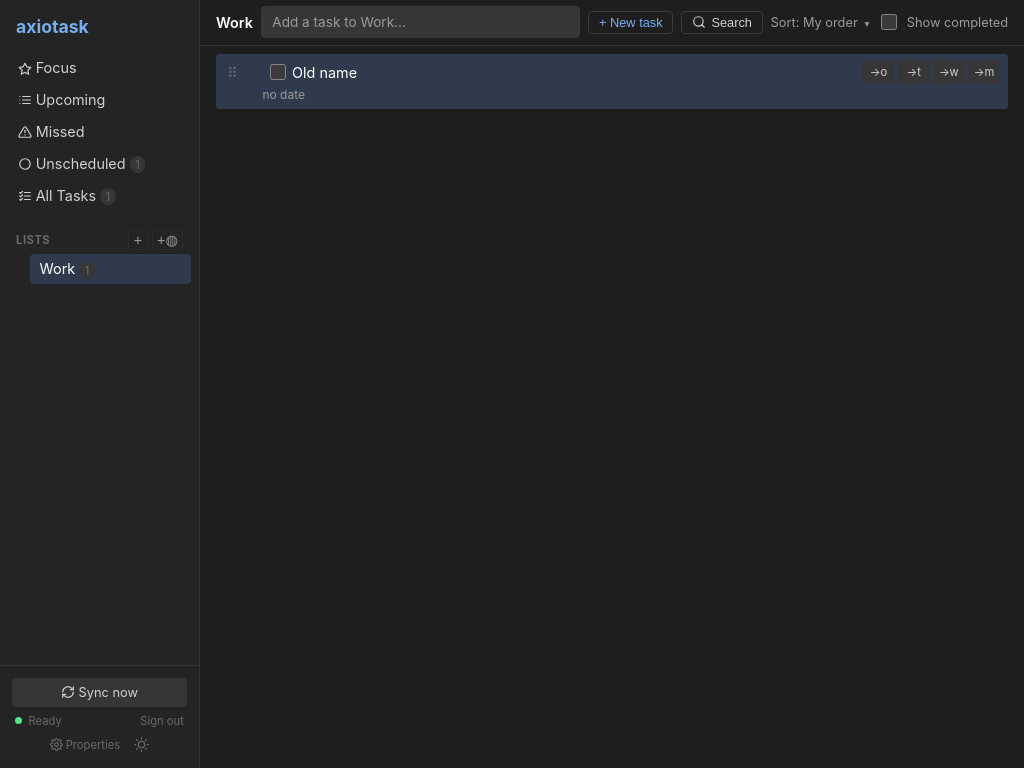
Detail Panel Workflows › The open panel tracks the task it is showing › renaming a task inline updates the title in the open panel
Click the text "Old name": (325, 72) [292,64,357,81]
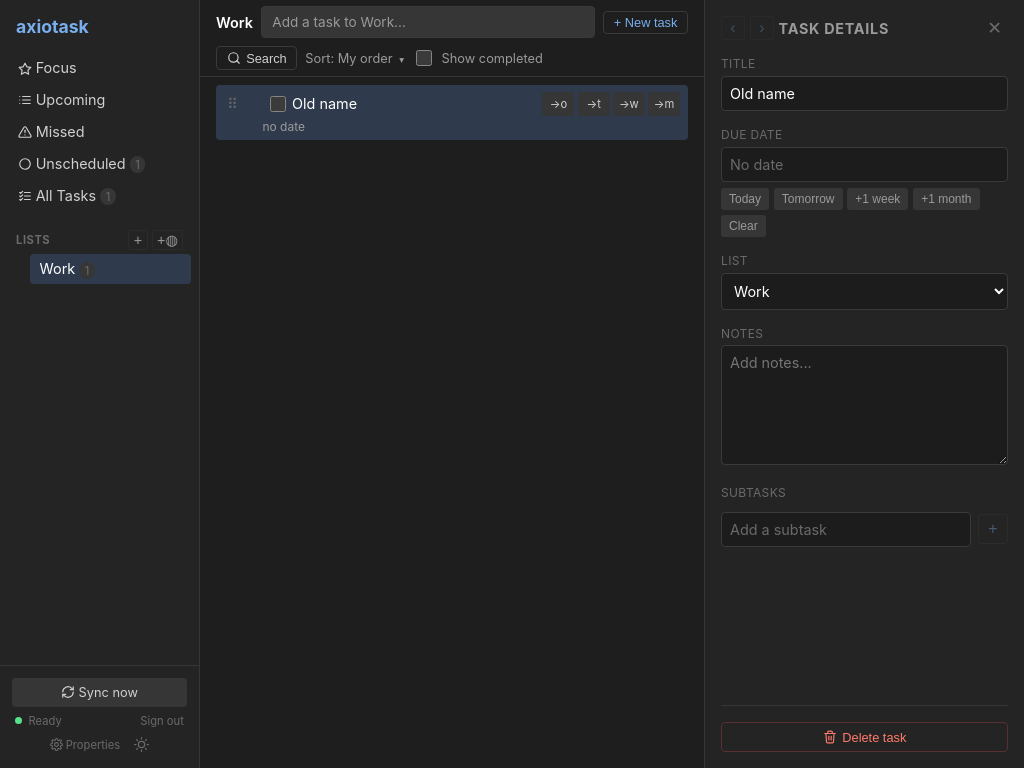
Now the field labelled "Title" holds "Old name", box [721,76,1008,111]
// Rename inline (double-click the title → edit input → Enter).
Double-click the text "Old name": (325, 104) [292,95,357,112]
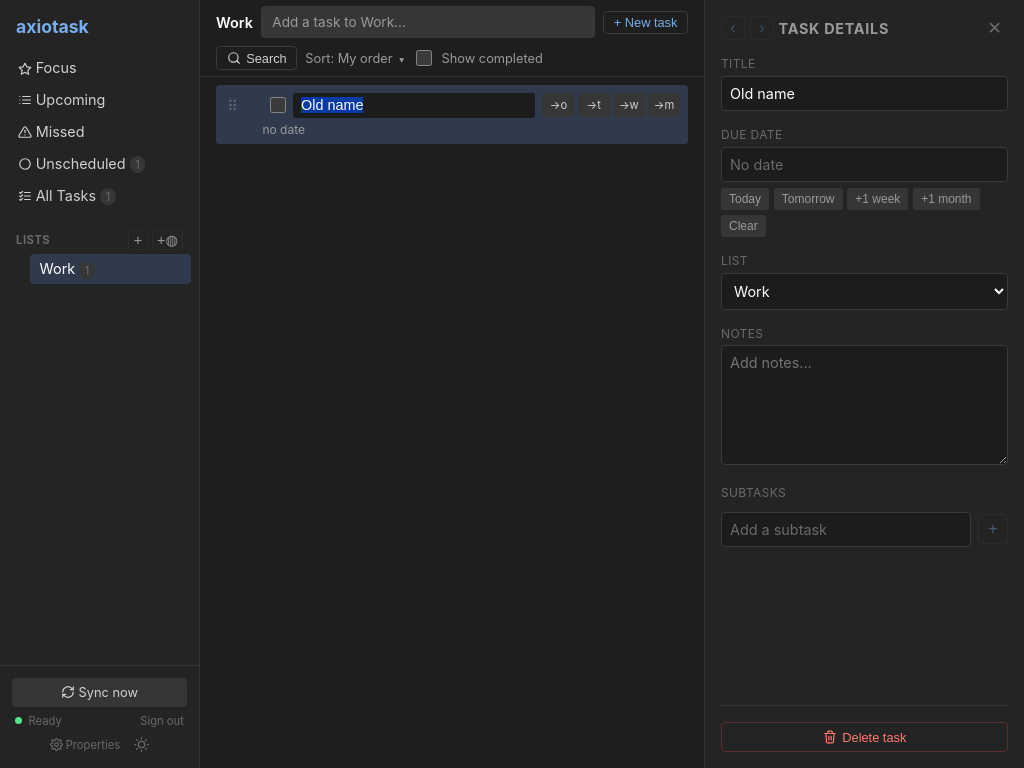
Now the field with class "edit-input" is shown
Replace the text in the field with class "edit-input" with "New name": (414, 105) [292,92,536,119]
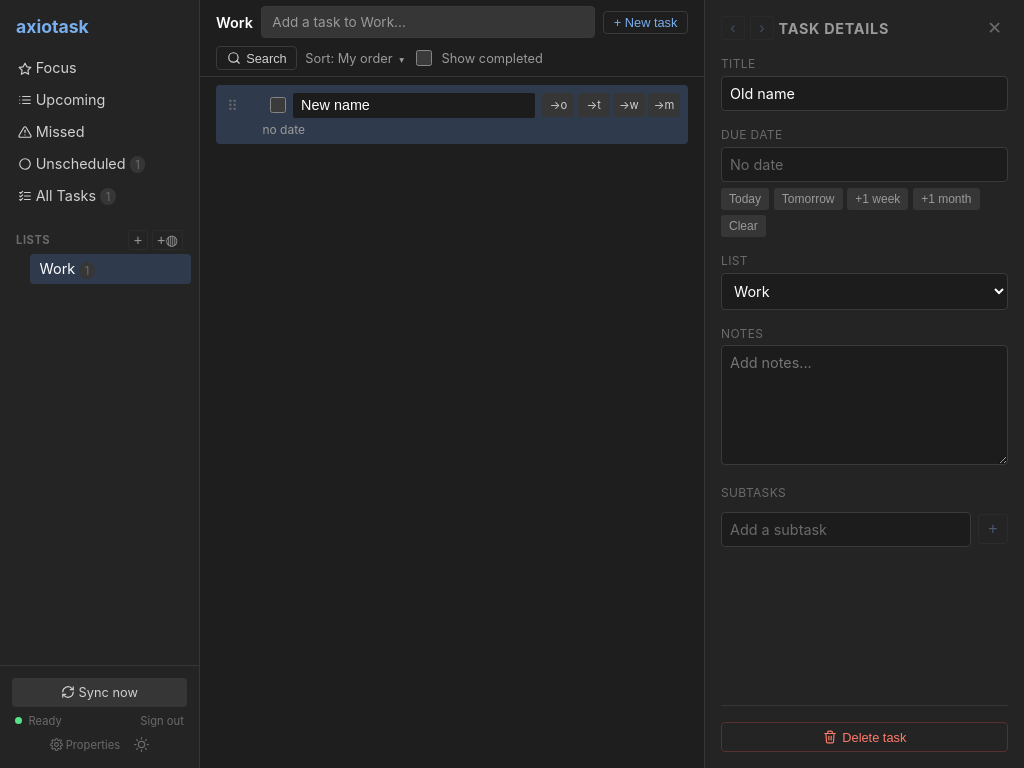
Press Enter in the field with class "edit-input", box [292,92,536,119]
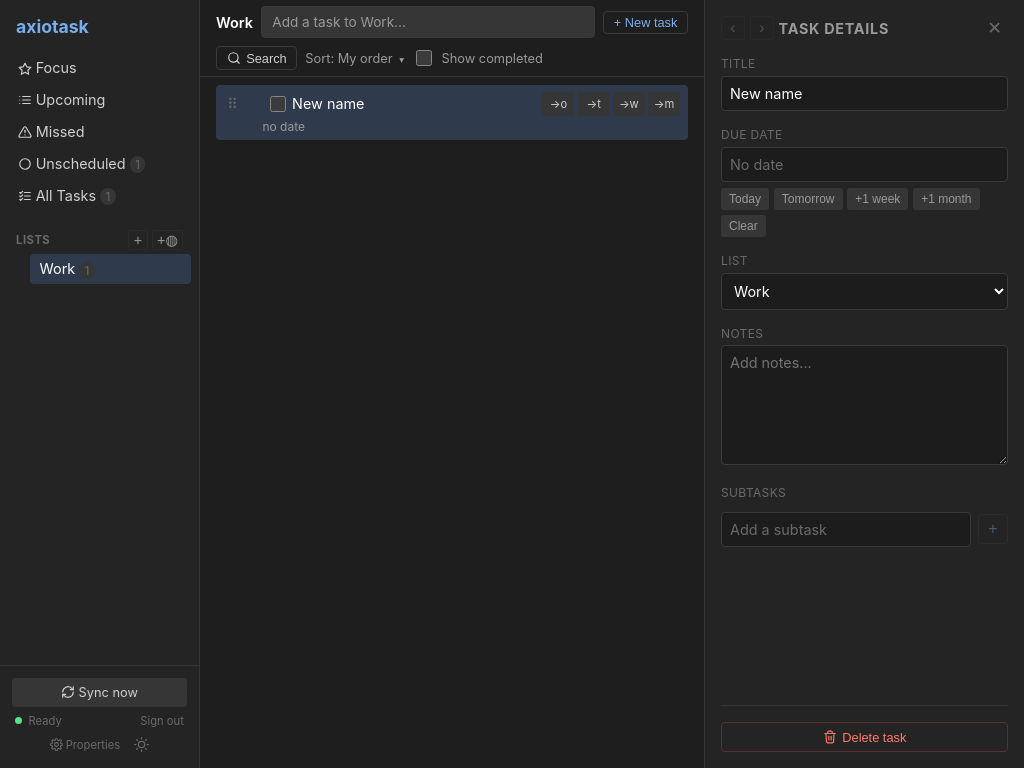
Now the field labelled "Title" holds "New name", box [721,76,1008,111]
